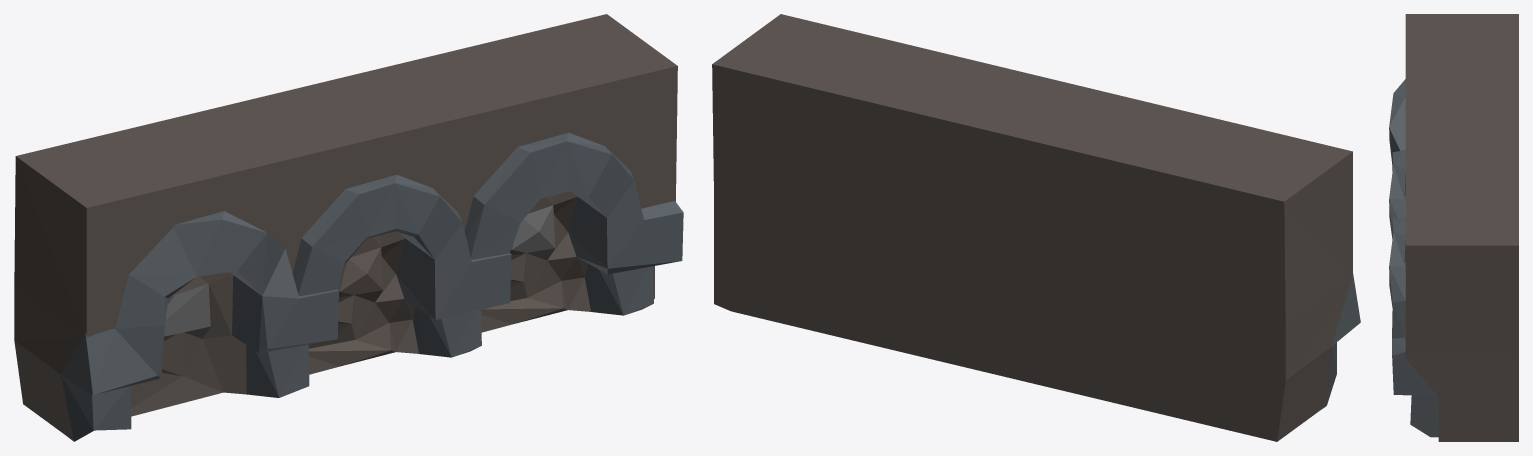
The model's file is MCastle_MasonryFixtures_21.FBX.
3 views of the same model, side by side, from view 1: azimuth 30°, elevation 25°; view 2: azimuth 150°, elevation 25°; view 3: azimuth 270°, elevation 25° (orthographic). The views are drawn at different scales.
Parts seen in each view (by area): view 1: MCastle_MasonryFixtures_21_Arches_LOD0; view 2: MCastle_MasonryFixtures_21_Arches_LOD0; view 3: MCastle_MasonryFixtures_21_Arches_LOD0.
Boxes of the visible parts, <box> form: MCastle_MasonryFixtures_21_Arches_LOD0: <box>14,14,683,441</box>; MCastle_MasonryFixtures_21_Arches_LOD0: <box>712,14,1360,441</box>; MCastle_MasonryFixtures_21_Arches_LOD0: <box>1389,14,1518,441</box>.
Size of what is drawn, in the model's own units: 4.1 by 1.67 by 0.9745.
